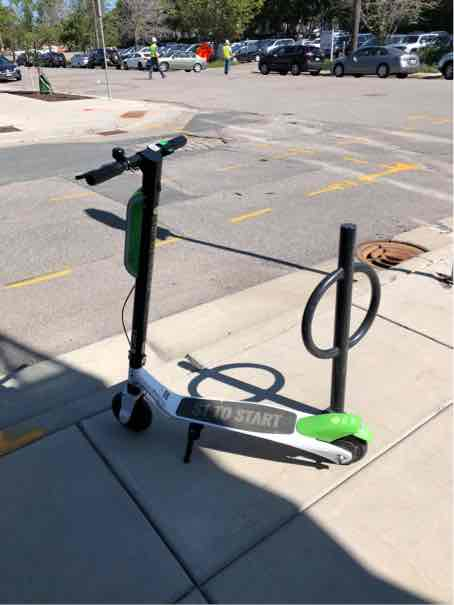scooter: (73, 129, 377, 473)
